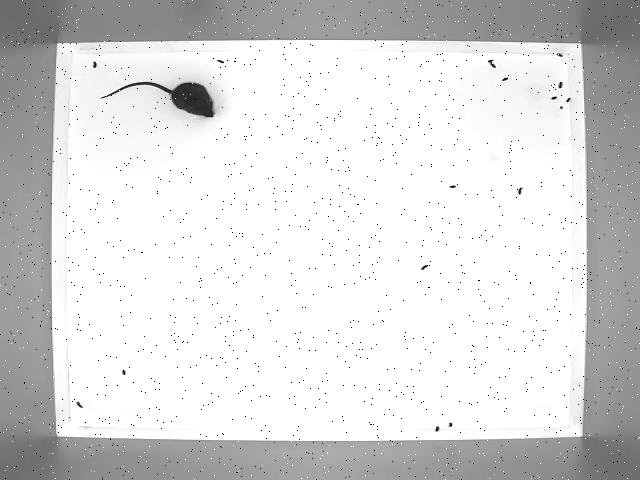Tikus: (98, 79, 224, 121)
